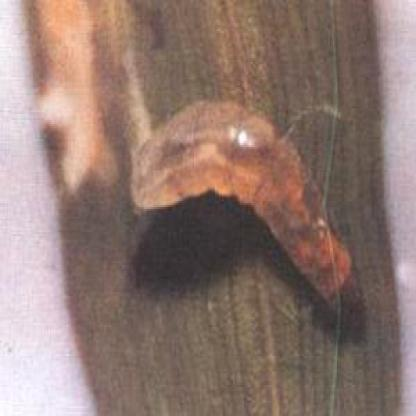whorl-maggot: (126, 91, 357, 303)
